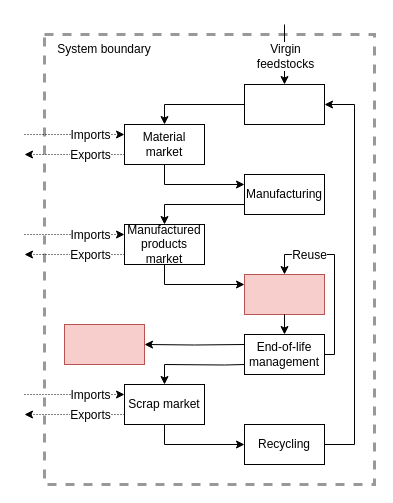
This 393x503 diagram has some shape labels left out. Here are the shapes that lost their labels. From the top down, the centre of each, then its label:
At point 284,104: "Material production".
At point 284,294: "In-use stock".
At point 104,344: "Obsolete stock".
